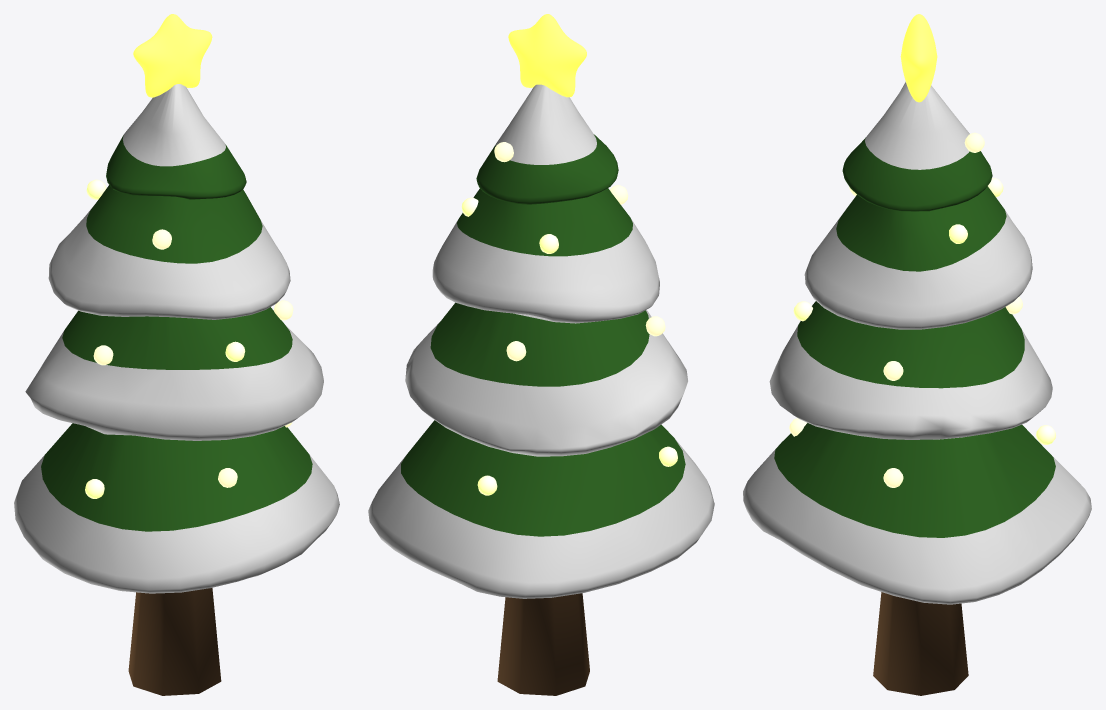
The model's file is chirstmastree.fbx.
The picture shows the model from 3 angles, left to right: view 1: azimuth 30°, elevation 25°; view 2: azimuth 150°, elevation 25°; view 3: azimuth 270°, elevation 25°; orthographic projection.
Visible parts, largest first — view 1: ChristmasTree, Circle; view 2: ChristmasTree, Circle; view 3: ChristmasTree, Circle.
Boxes of the visible parts, x1,y1,x2,y2 form: ChristmasTree: (14,84,339,695); Circle: (133,14,212,97); ChristmasTree: (368,84,714,695); Circle: (508,14,586,97); ChristmasTree: (743,82,1091,695); Circle: (900,14,937,102).
Bounding box in the file's own units: 3319 × 7201 × 3451.
